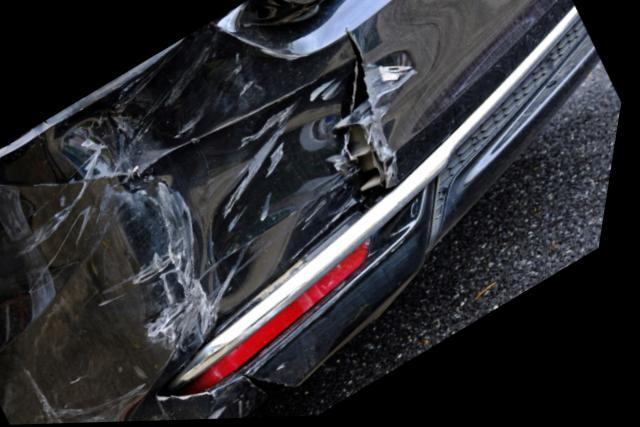crack: (336, 29, 394, 207), (253, 375, 309, 400)
dent: (119, 23, 363, 326), (168, 394, 224, 422)
rub: (23, 132, 227, 424)
